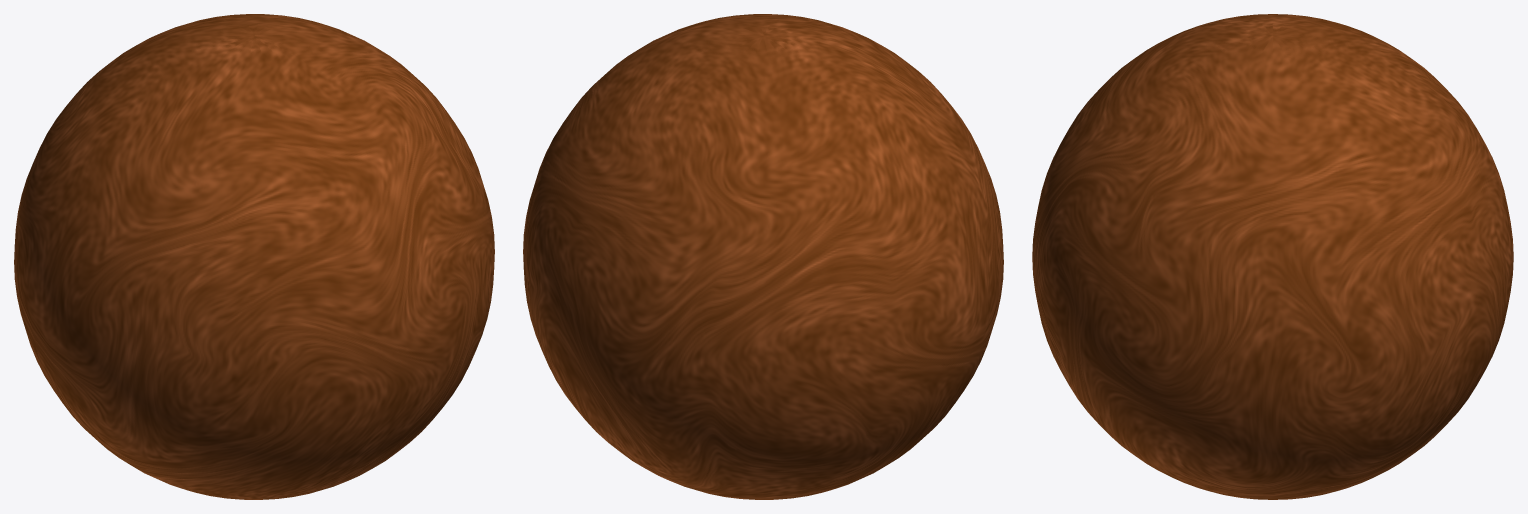
File: Planet10.fbx
3 renders of one model, left to right at view 1: azimuth 30°, elevation 25°; view 2: azimuth 150°, elevation 25°; view 3: azimuth 270°, elevation 25°, orthographic.
Parts seen in each view (by area): view 1: pasted__pSphere3; view 2: pasted__pSphere3; view 3: pasted__pSphere3.
Boxes of the visible parts, bbox=[...] form: pasted__pSphere3: bbox=[14, 14, 494, 499]; pasted__pSphere3: bbox=[523, 14, 1003, 499]; pasted__pSphere3: bbox=[1032, 14, 1513, 499].
Size of the model in its own units: 1.97 by 2 by 1.97.
Materials: 1 (1 with a texture image).
